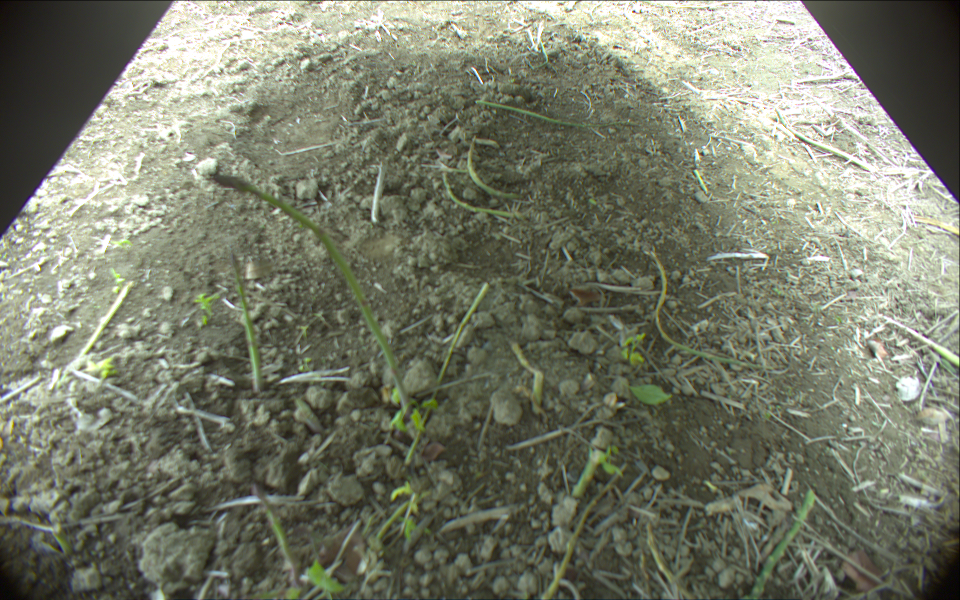aspa: (205, 169, 404, 393), (404, 282, 488, 468), (651, 252, 766, 370), (62, 280, 135, 383), (749, 489, 815, 600), (775, 108, 879, 173), (477, 99, 642, 129), (230, 254, 265, 391), (880, 312, 960, 369), (252, 486, 298, 585), (440, 171, 530, 219), (467, 135, 528, 200)
